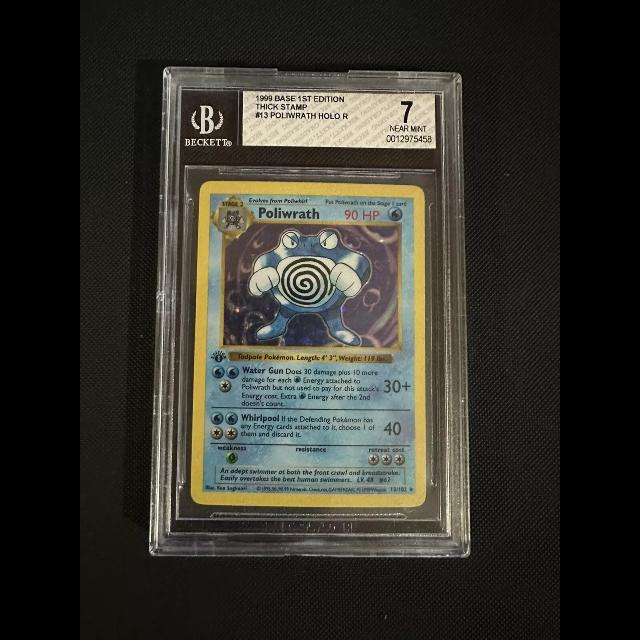bgs_label: (242, 89, 436, 149)
bgs_slab: (147, 65, 472, 558)
card: (190, 179, 427, 508)
